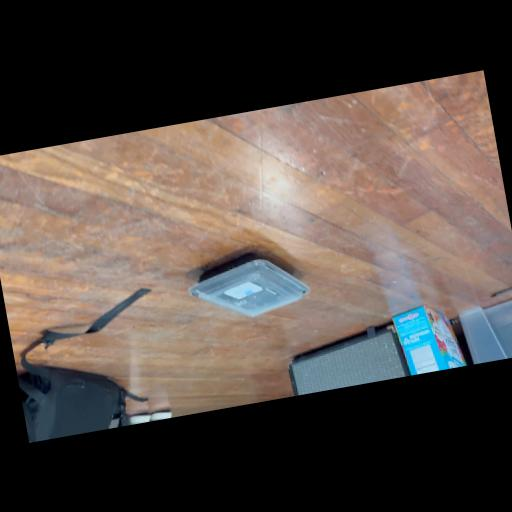rigid_plastic_container: (184, 240, 314, 328)
